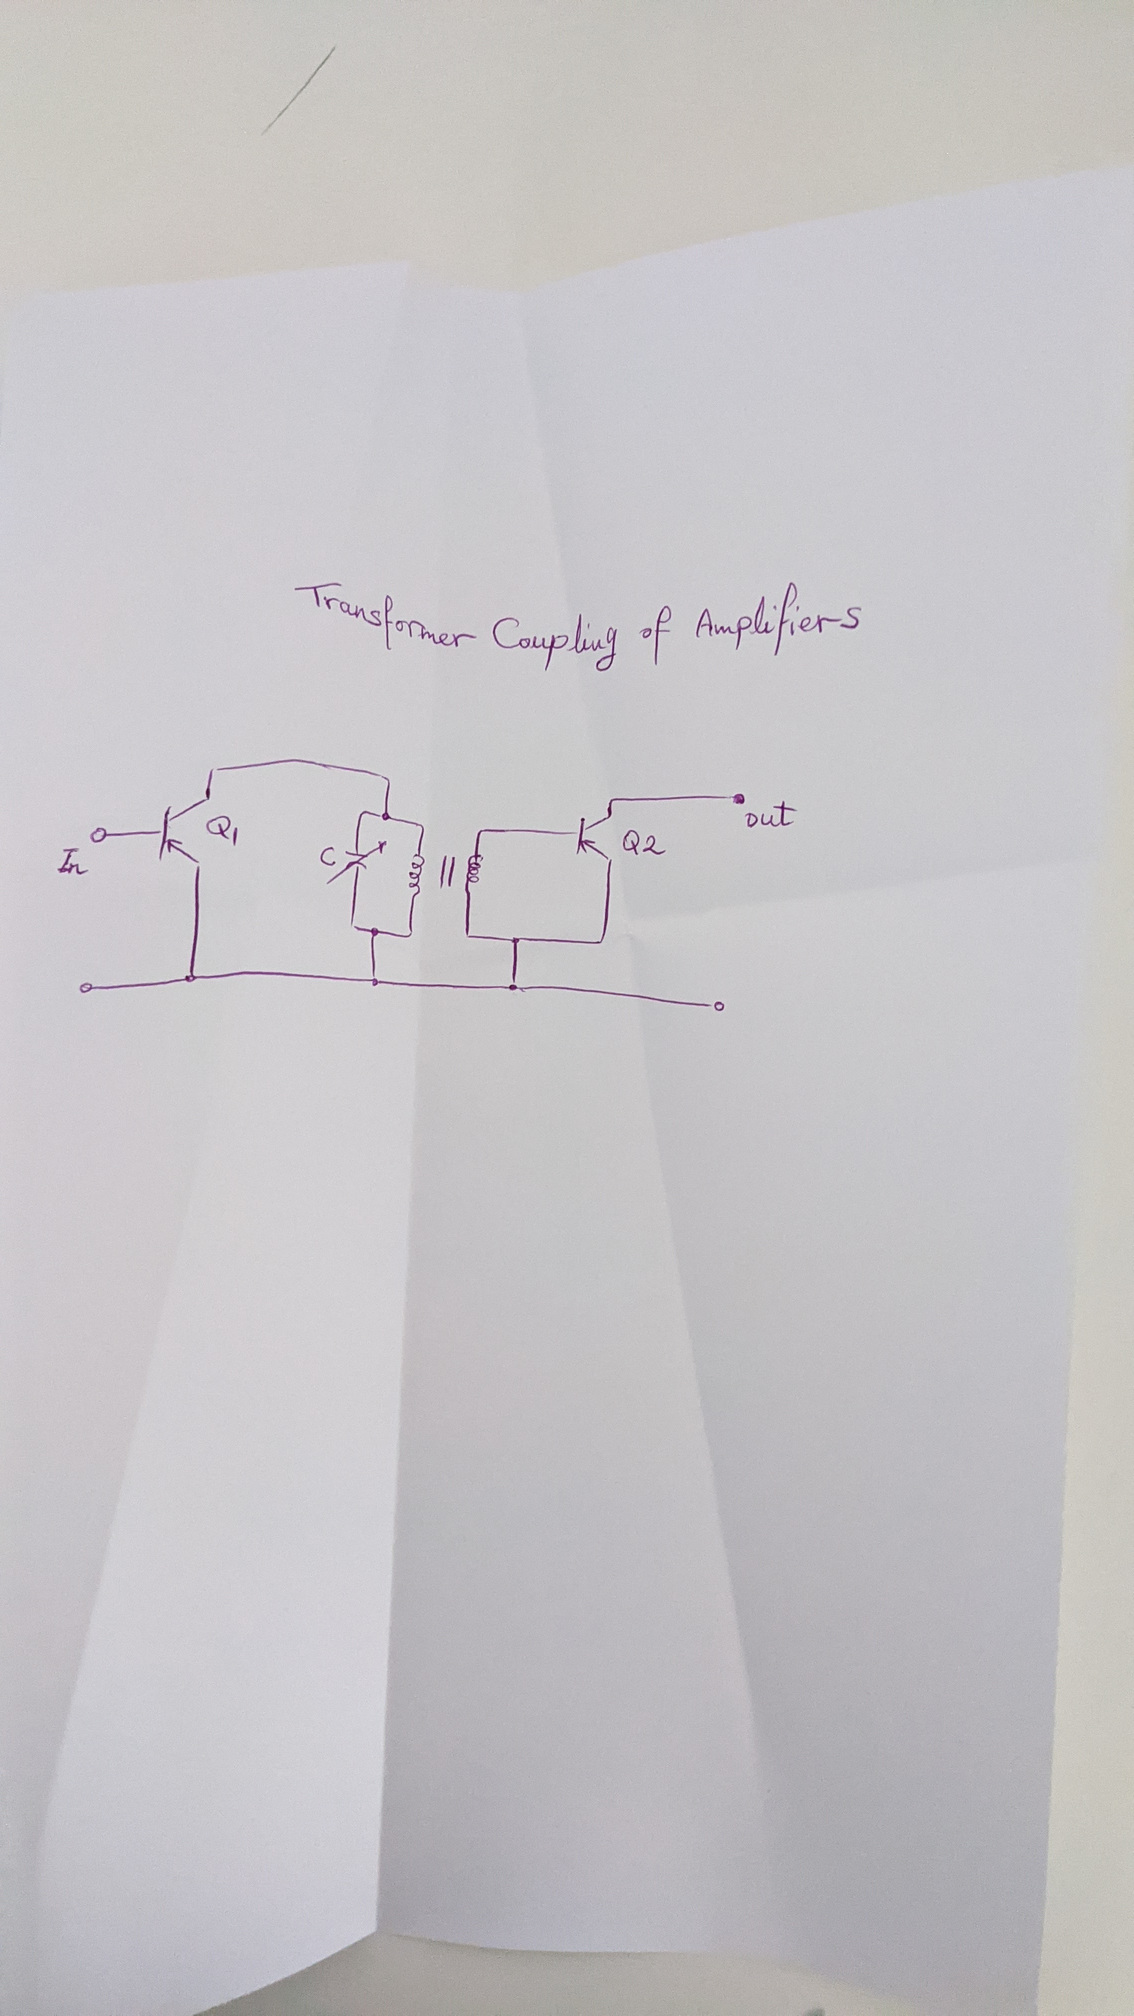capacitor.unpolarized: (325, 839, 388, 885)
junction: (504, 978, 523, 994), (367, 972, 384, 989), (183, 969, 199, 986), (377, 809, 393, 822), (415, 820, 431, 834), (368, 925, 382, 939), (404, 928, 417, 942), (379, 771, 393, 784), (508, 935, 523, 946), (208, 764, 222, 775), (354, 809, 368, 820), (348, 918, 359, 930), (462, 929, 474, 942), (595, 936, 606, 948), (475, 825, 486, 836), (606, 796, 618, 806)
terminal: (89, 827, 109, 845), (724, 792, 748, 806), (706, 1000, 727, 1014), (78, 980, 96, 996)
text: (292, 579, 863, 673), (744, 798, 798, 829), (620, 827, 667, 858), (204, 813, 241, 847), (55, 846, 90, 876), (318, 845, 339, 868)
transformer: (406, 852, 486, 899)
transistor: (154, 793, 213, 871), (569, 809, 618, 867)
